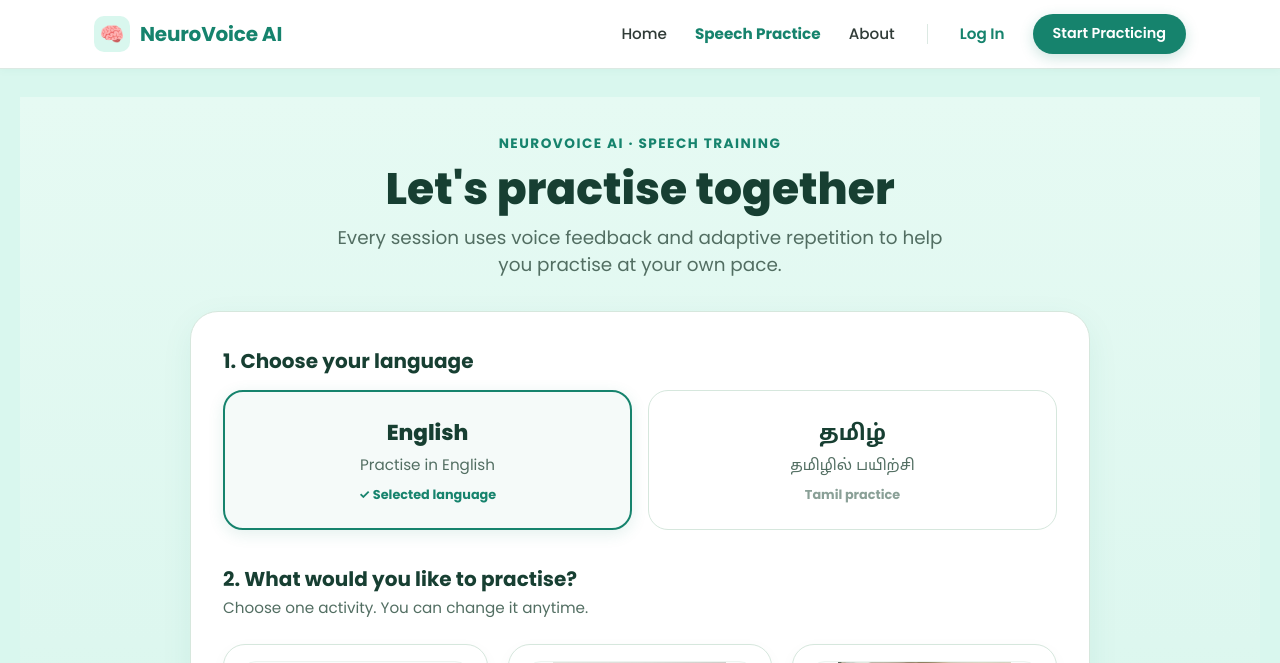
Speech Practice Module - 3 Practice Modes Redesign › switches language between English and Tamil on the hub and updates cards and descriptions
The width and height of the screenshot is (1280, 663).
Note: Switch to Tamil
What coordinates should you click on to do the following:
click the button with aria-label "Practice in Tamil"
I would click on:
 (852, 460)
Its box is top-left (648, 390), bottom-right (1057, 530).
(page scrolled)
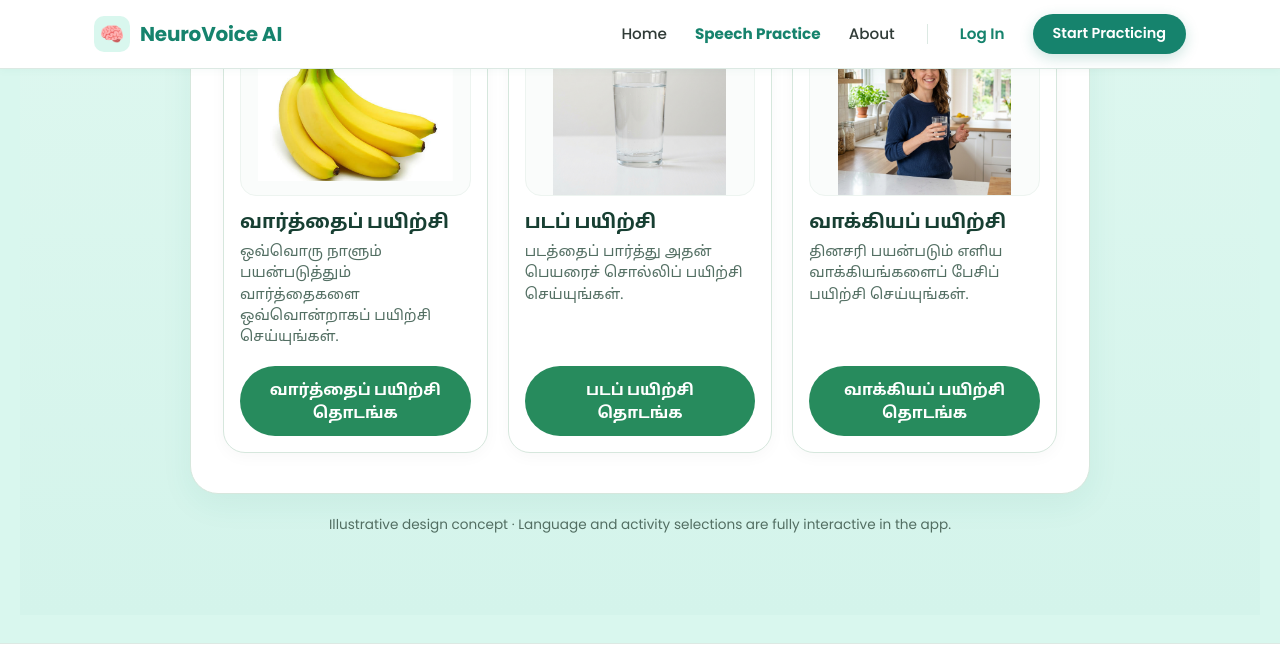
Now the heading "வார்த்தைப் பயிற்சி" is shown, box top-left (240, 210), bottom-right (471, 235)
Now the button with aria-label "வார்த்தைப் பயிற்சியைத் தொடங்கு" is shown, box top-left (240, 366), bottom-right (471, 436)
Now the heading "படப் பயிற்சி" is shown, box top-left (525, 208), bottom-right (656, 235)
